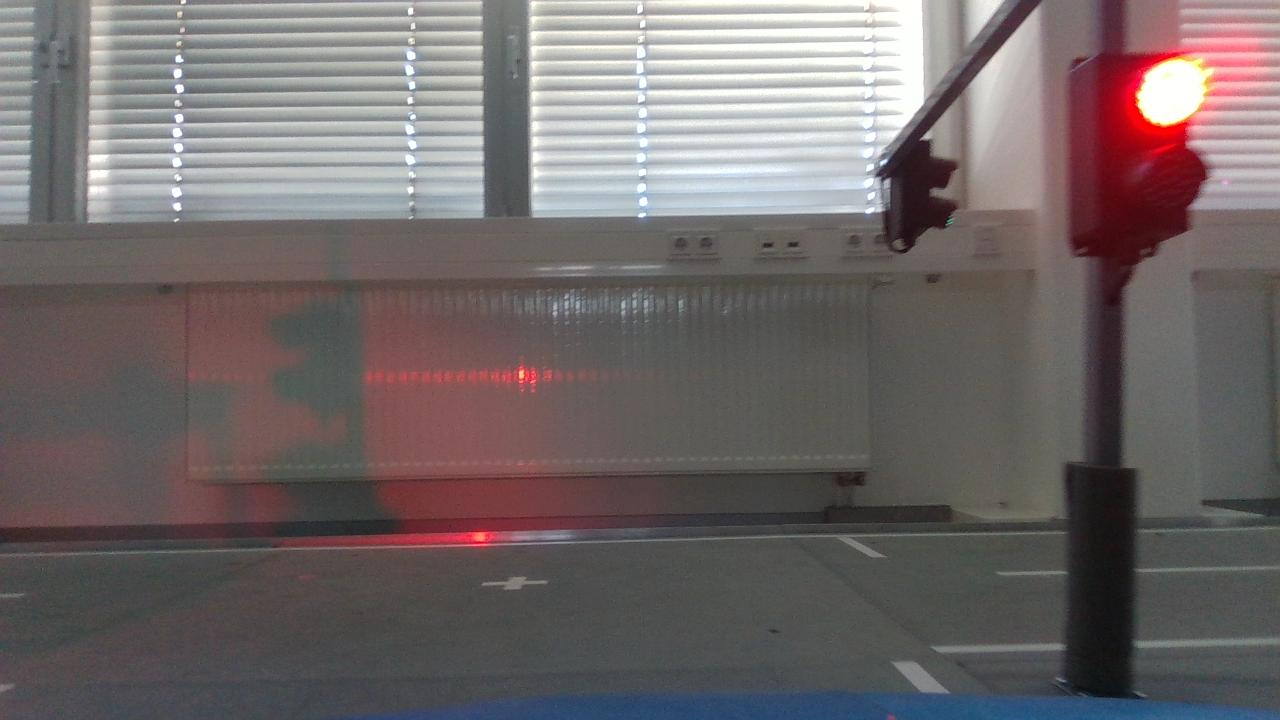traffic_light_red: (1056, 44, 1228, 267)
